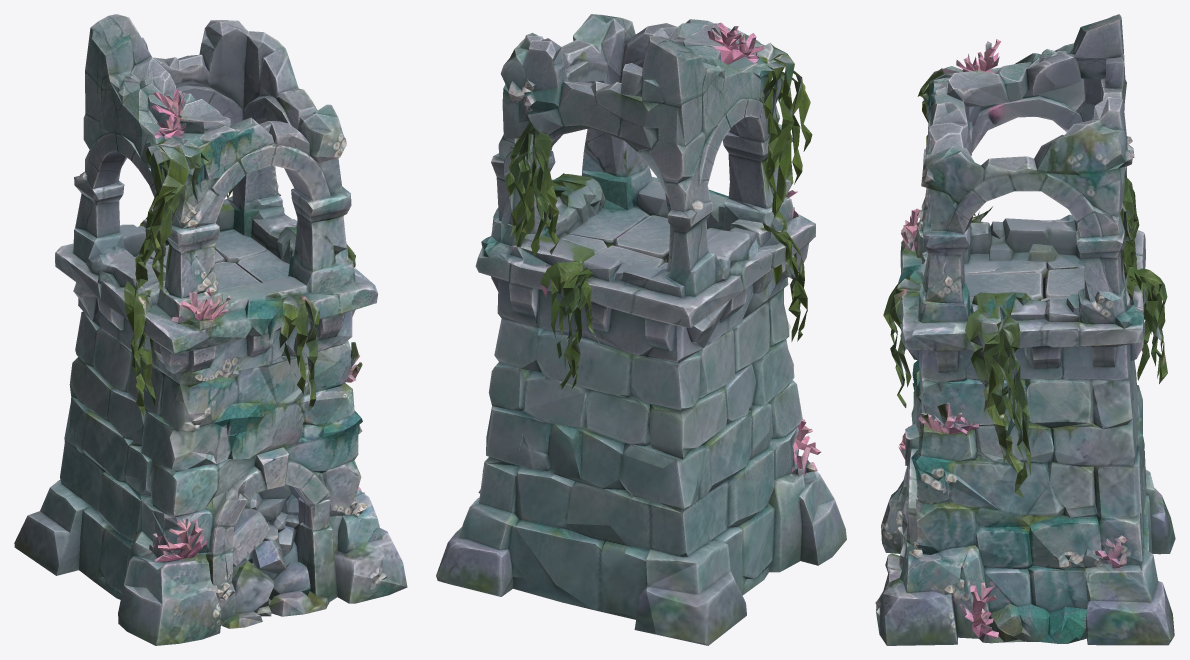
File: campanile.glb
The picture shows the model from 3 angles, left to right: view 1: azimuth 30°, elevation 25°; view 2: azimuth 150°, elevation 25°; view 3: azimuth 270°, elevation 25°; orthographic projection. The views are drawn at different scales.
Size of the model in its own units: 1.03 by 1.9 by 0.9604.
Materials: 1 (1 with a texture image).
